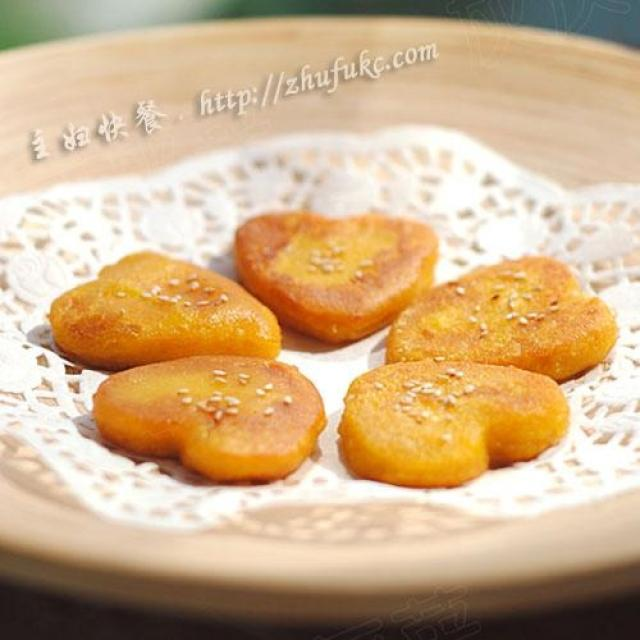炸货点心: (19, 156, 627, 535)
蛋糕甜品: (19, 156, 627, 535)
